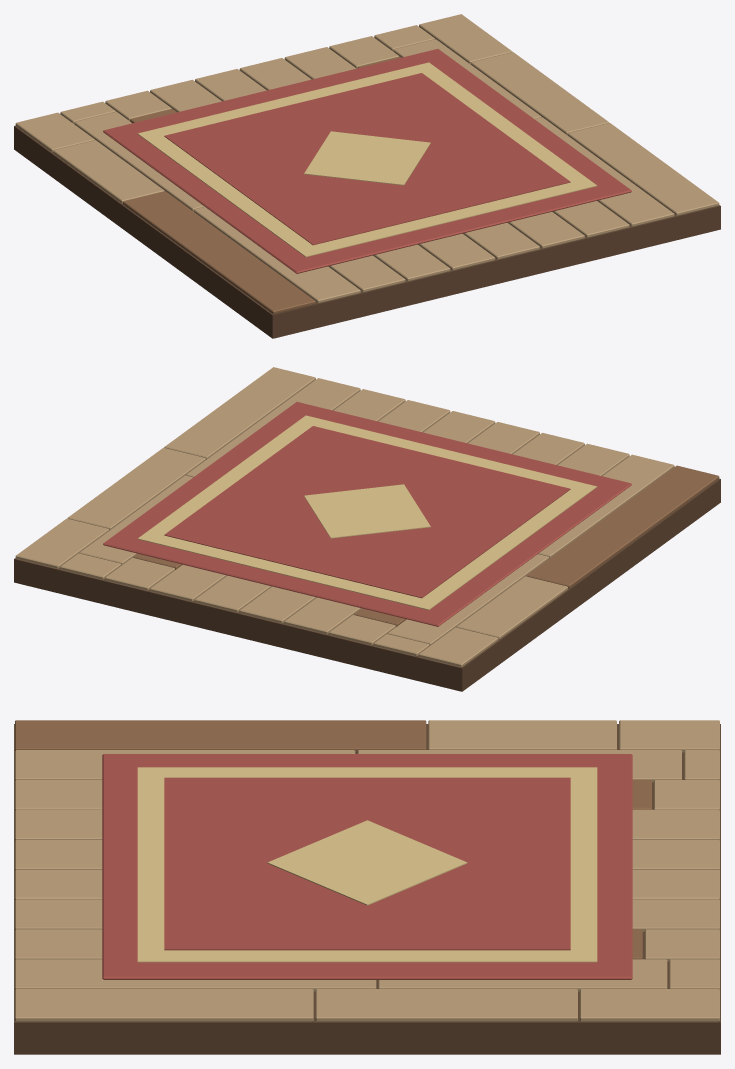
File: floor_hm_rug.glb
3 views of the same model, one above another, from view 1: azimuth 30°, elevation 25°; view 2: azimuth 150°, elevation 25°; view 3: azimuth 270°, elevation 25° (orthographic). The views are drawn at different scales.
Parts seen in each view (by area): view 1: floor_hm_rug; view 2: floor_hm_rug; view 3: floor_hm_rug.
Part boxes in pixels (x1,y1,x2,y2): floor_hm_rug: [14, 14, 720, 338]; floor_hm_rug: [14, 367, 720, 691]; floor_hm_rug: [14, 720, 720, 1054].
Bounding box in the file's own units: 4 × 0.268 × 4.
